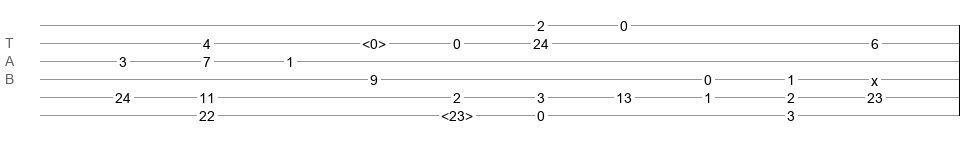0: (453, 36, 461, 46), (537, 108, 545, 118), (620, 18, 628, 28), (704, 72, 712, 82)
1: (286, 54, 294, 64), (704, 90, 712, 100), (787, 72, 795, 82)
11: (199, 90, 215, 100)
13: (616, 90, 632, 100)
2: (453, 90, 461, 100), (537, 18, 545, 28), (787, 90, 795, 100)
22: (199, 108, 215, 118)
23: (867, 90, 883, 100)
24: (115, 90, 131, 100), (533, 36, 549, 46)
3: (119, 54, 127, 64), (537, 90, 545, 100), (787, 108, 795, 118)
4: (203, 36, 211, 46)
6: (871, 36, 879, 46)
7: (203, 54, 211, 64)
9: (370, 72, 378, 82)
harmonic: (441, 108, 473, 118), (362, 36, 386, 46)
x: (871, 73, 878, 81)
